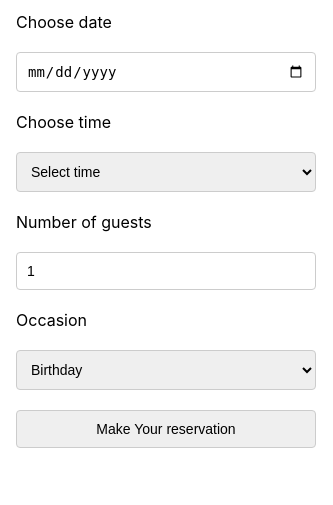
Test: displays error message for invalid guests count
Replace the text in the number field labelled "Number of guests" with "0": (166, 271) [16,252,316,290]
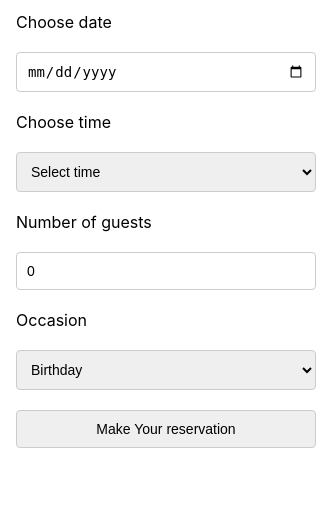
Leave the number field labelled "Number of guests", box [16,252,316,290]
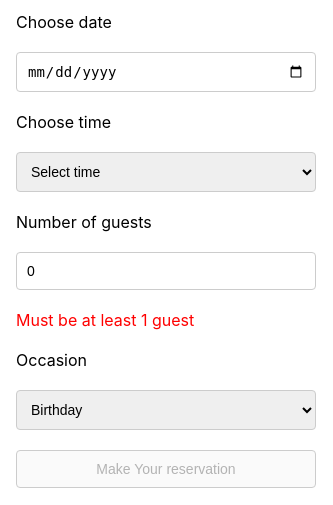
expect the text "Must be at least 1 guest" is shown: met, box [16,310,194,330]
